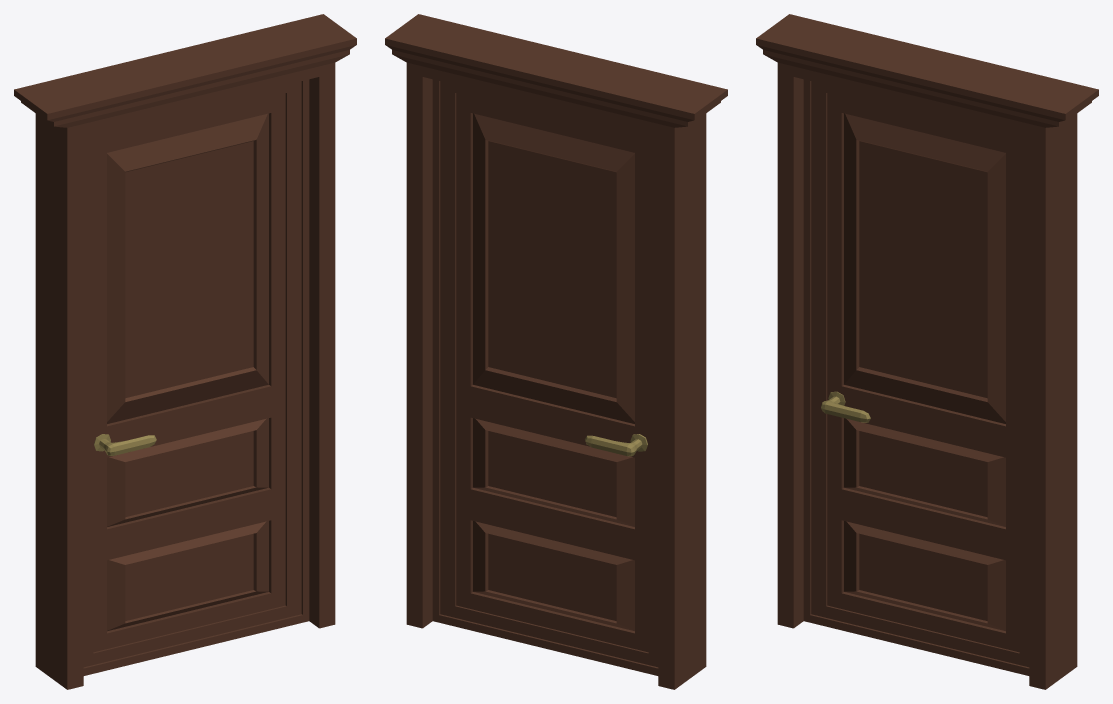
Rendered from Door_flat.glb.
The picture shows the model from 3 angles, left to right: view 1: azimuth 30°, elevation 25°; view 2: azimuth 150°, elevation 25°; view 3: azimuth 330°, elevation 25°; orthographic projection.
Parts seen in each view (by area): view 1: Door, DoorFrame, DoorHandle; view 2: Door, DoorFrame, DoorHandle; view 3: Door, DoorFrame, DoorHandle.
Part boxes in pixels (x1,y1,x2,y2): Door: [83, 79, 309, 675]; DoorFrame: [14, 14, 356, 689]; DoorHandle: [94, 434, 156, 455]; Door: [432, 79, 658, 675]; DoorFrame: [385, 14, 727, 689]; DoorHandle: [585, 434, 647, 456]; Door: [803, 79, 1029, 675]; DoorFrame: [756, 14, 1098, 689]; DoorHandle: [821, 391, 870, 422].
Size of the model in its own units: 9.64 by 17.31 by 1.8.
